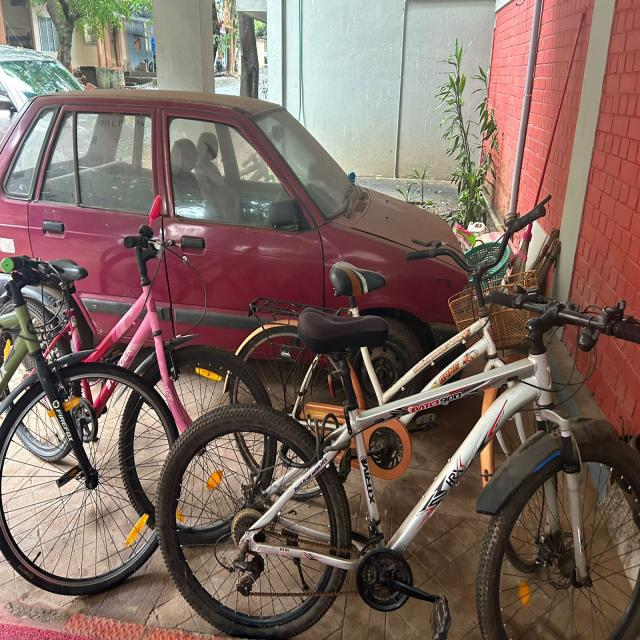bicycle ahead at: (142, 285, 640, 640)
car ahead at: (6, 82, 471, 375)
